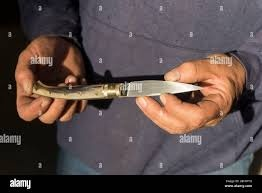knife: (32, 80, 205, 99)
